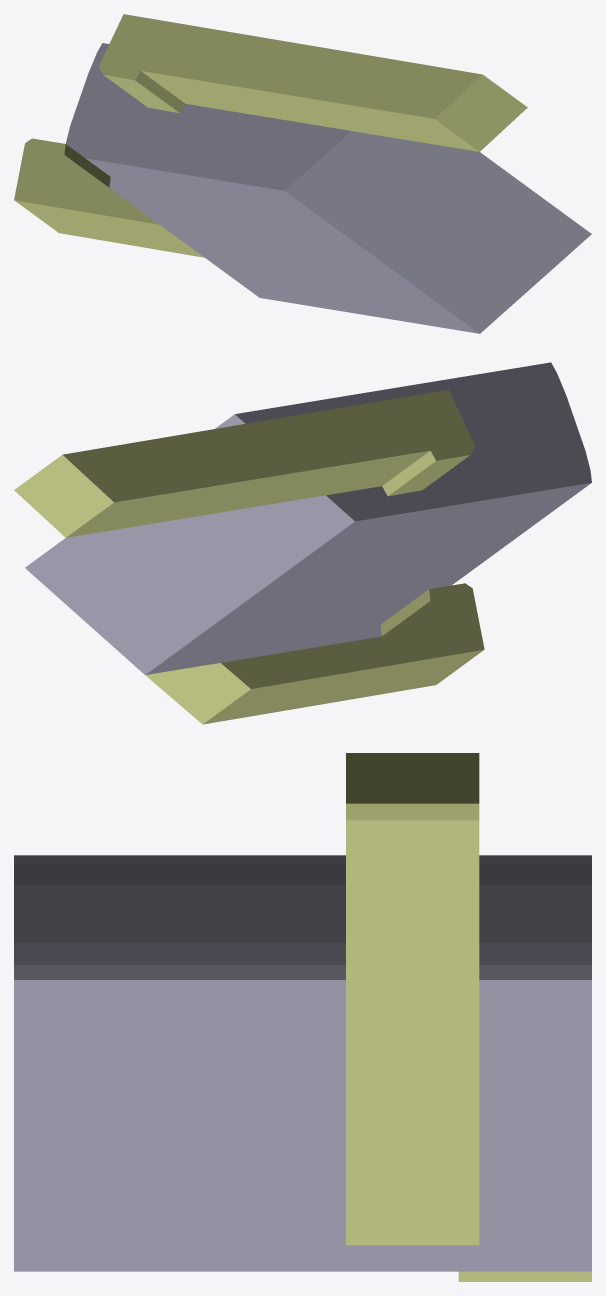
3 views of the same model, one above another, from view 1: azimuth 30°, elevation 25°; view 2: azimuth 150°, elevation 25°; view 3: azimuth 270°, elevation 25° (orthographic). The views are drawn at different scales.
Visible parts, largest first — view 1: 0_0_3_1_2_1_3_1; view 2: 0_0_3_1_2_1_3_1; view 3: 0_0_3_1_2_1_3_1.
Boxes of the visible parts, box(x1,y1,x2,y2) form: 0_0_3_1_2_1_3_1: box(14, 14, 591, 333); 0_0_3_1_2_1_3_1: box(14, 362, 591, 724); 0_0_3_1_2_1_3_1: box(14, 753, 591, 1281).
Bounding box in the file's own units: 49.66 × 31.53 × 39.
